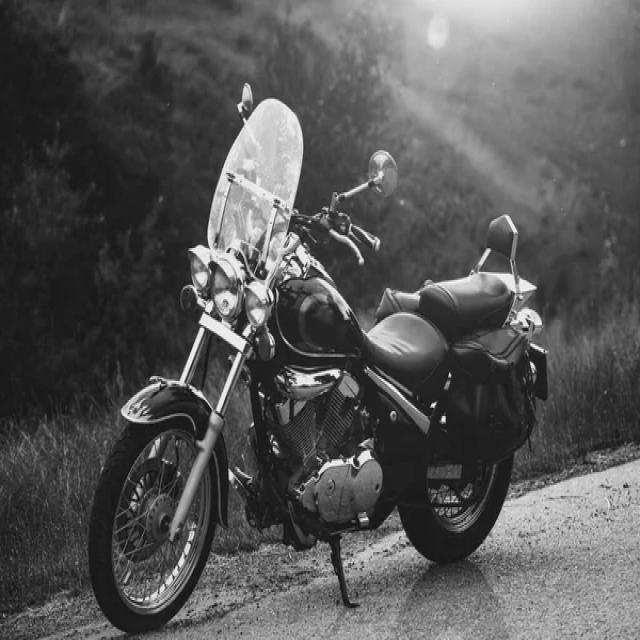Motorcycle: (89, 88, 548, 631)
